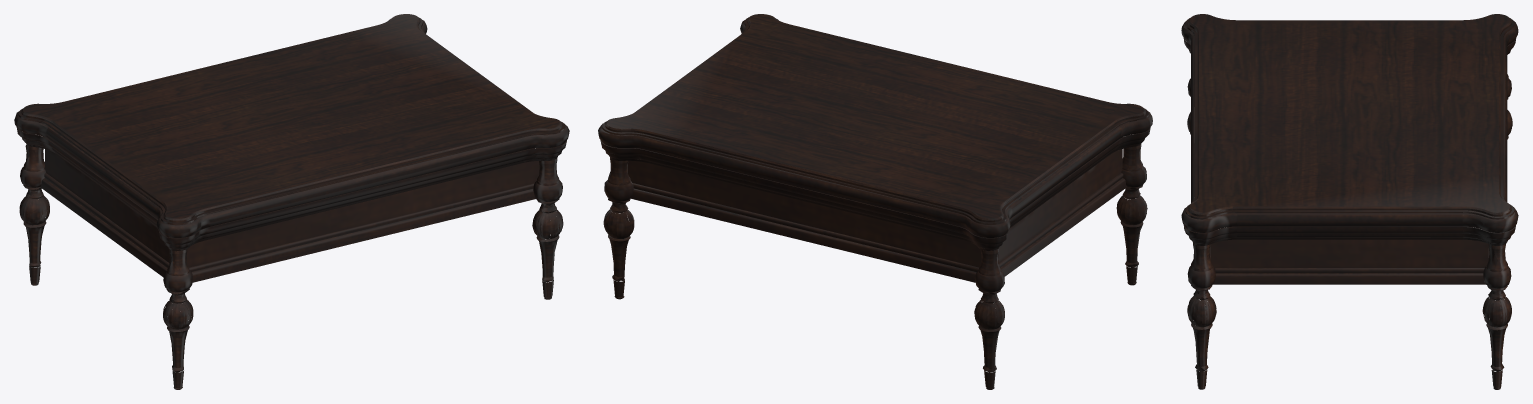
File: table_coffee_table_rectangular_866301a4-0905-51f2-a450-6d3e8cebf8cf.glb
3 views of the same model, side by side, from view 1: azimuth 30°, elevation 25°; view 2: azimuth 150°, elevation 25°; view 3: azimuth 270°, elevation 25° (orthographic). The views are drawn at different scales.
Visible parts, largest first — view 1: raw_model.obj; view 2: raw_model.obj; view 3: raw_model.obj.
Boxes of the visible parts, x1,y1,x2,y2 form: raw_model.obj: (14,14,569,389); raw_model.obj: (598,14,1152,389); raw_model.obj: (1181,14,1518,389).
Size of the model in its own units: 1.15 by 0.4702 by 0.7924.
Materials: 1 (1 with a texture image).
